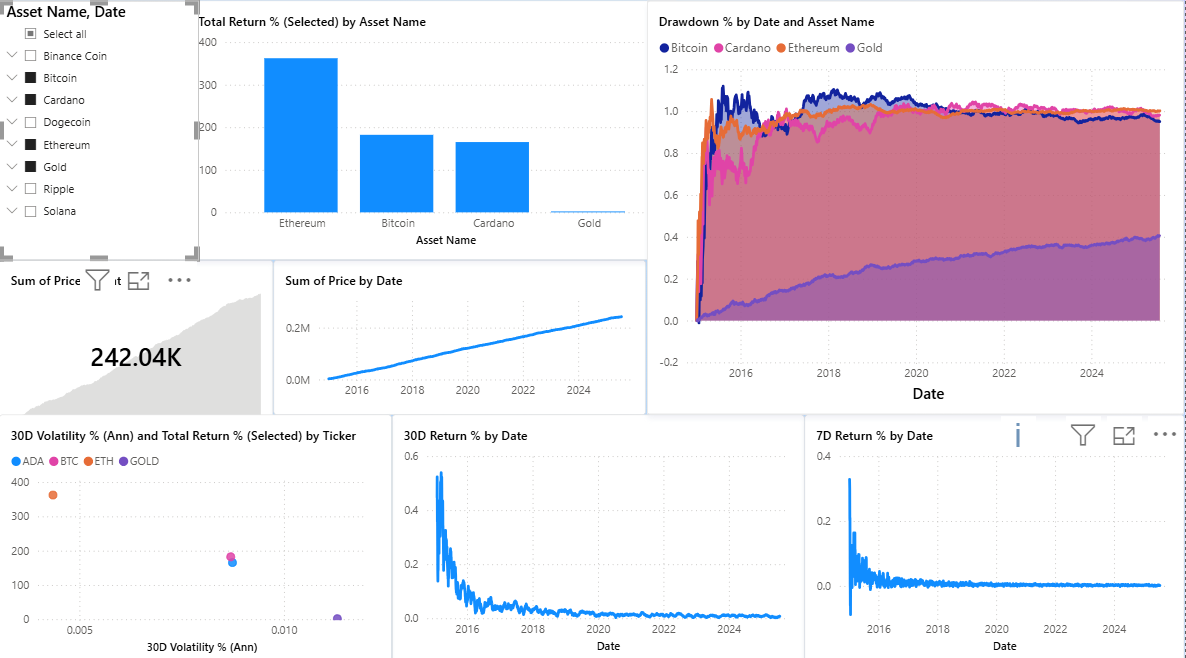

The page's visual inventory and layout, read from the dashboard file:
{"tool":"powerbi","page":{"name":"Page 1","canvas":[1280,720],"ordinal":0},"visuals":[{"type":"slicer","fields":{"Values":["Prices.Asset Name","Date.Date"]},"box":[9.4,0,206,281.6],"z":0},{"type":"kpi","fields":{"Indicator":["Sum(Prices.Price)"],"TrendLine":["Date.Date"]},"box":[9.7,281.7,286.6,184.6],"z":1},{"type":"lineChart","fields":{"Category":["Date.Date"],"Y":["Sum(Prices.Price)"]},"box":[297,282,402,167],"z":2},{"type":"lineChart","fields":{"Category":["Date.Date"],"Y":["Prices.30D Return %"]},"box":[424,449,445,271],"z":3},{"type":"lineChart","fields":{"Category":["Date.Date"],"Y":["Prices.7D Return %"]},"box":[869,449,410,271],"z":4},{"type":"columnChart","fields":{"Category":["Prices.Asset Name"],"Y":["Prices.Total Return % (Selected)"]},"box":[202.2,1.9,531,279.7],"z":5},{"type":"areaChart","fields":{"Category":["Date.Date"],"Series":["Prices.Asset Name"],"Y":["Prices.Drawdown %"]},"box":[699,2,580,447],"z":6},{"type":"scatterChart","fields":{"X":["Prices.30D Volatility % (Ann)"],"Y":["Prices.Total Return % (Selected)"],"Series":["Prices.Ticker"]},"box":[0,448.5,424.2,272],"z":7}]}

Visuals, with their boxes on the page's 1280x720 design canvas (x1, y1, x2, y2). These are canvas units, not pixel positions in the 1186x658 screenshot, which may show the page scaled, cropped or inside an application window:
slicer - Prices.Asset Name x Date.Date: bbox=(9, 0, 215, 282)
kpi - Sum(Prices.Price) x Date.Date: bbox=(10, 282, 296, 466)
lineChart - Date.Date x Sum(Prices.Price): bbox=(297, 282, 699, 449)
lineChart - Date.Date x Prices.30D Return %: bbox=(424, 449, 869, 720)
lineChart - Date.Date x Prices.7D Return %: bbox=(869, 449, 1279, 720)
columnChart - Prices.Asset Name x Prices.Total Return % (Selected): bbox=(202, 2, 733, 282)
areaChart - Date.Date x Prices.Asset Name: bbox=(699, 2, 1279, 449)
scatterChart - Prices.30D Volatility % (Ann) x Prices.Total Return % (Selected): bbox=(0, 448, 424, 720)
